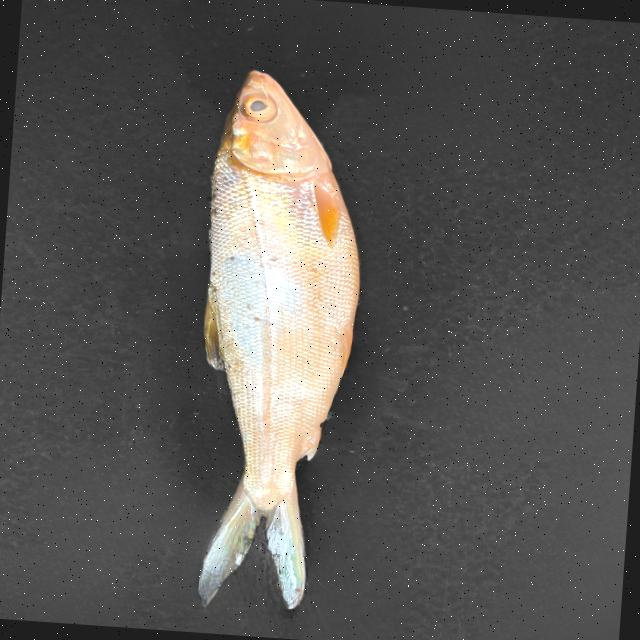490 g: (182, 67, 374, 614)
